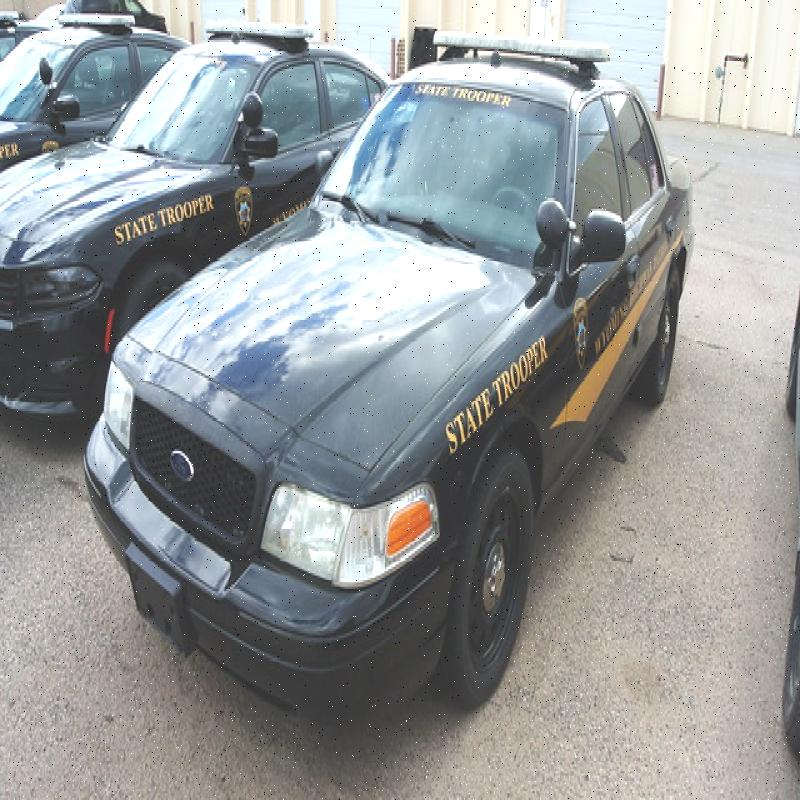AmbulanceSiren: (400, 9, 611, 91)
